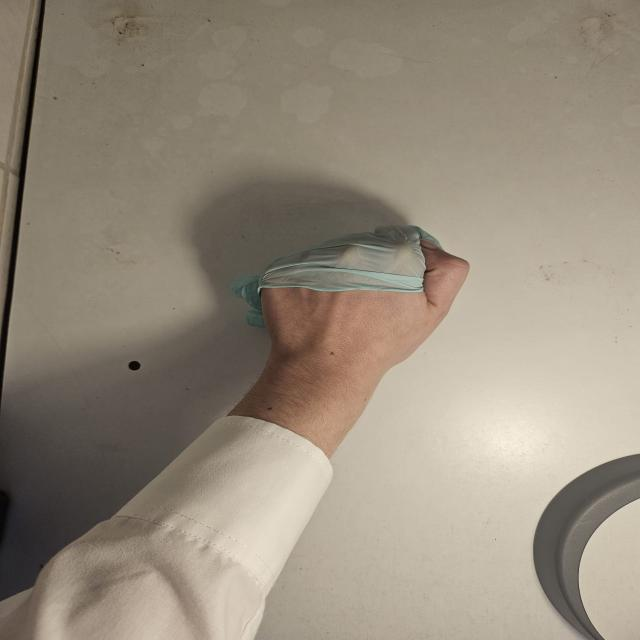glove_partial: (226, 224, 469, 366)
